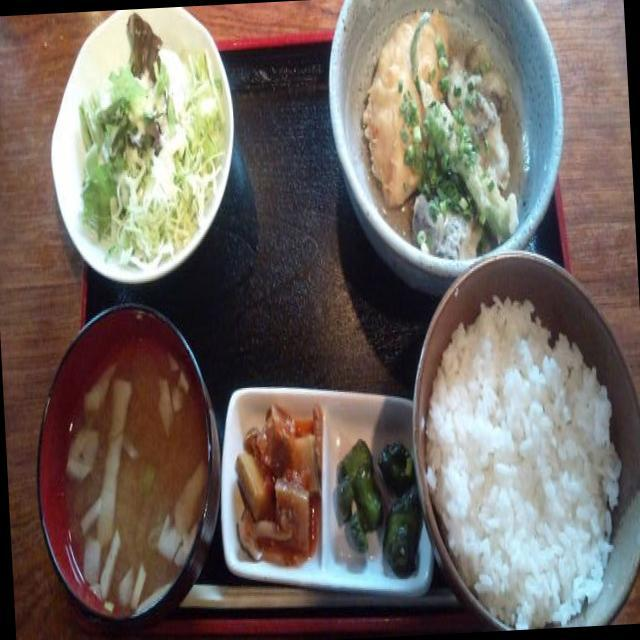Rice: (418, 291, 627, 634)
